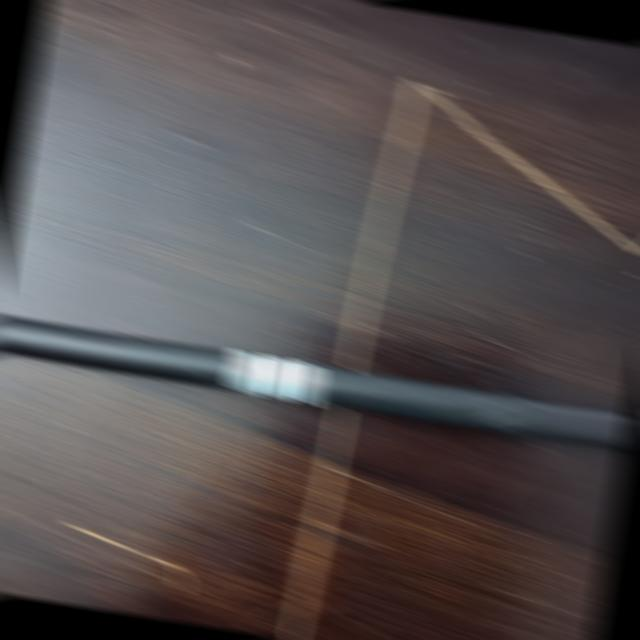white: (224, 348, 323, 406)
